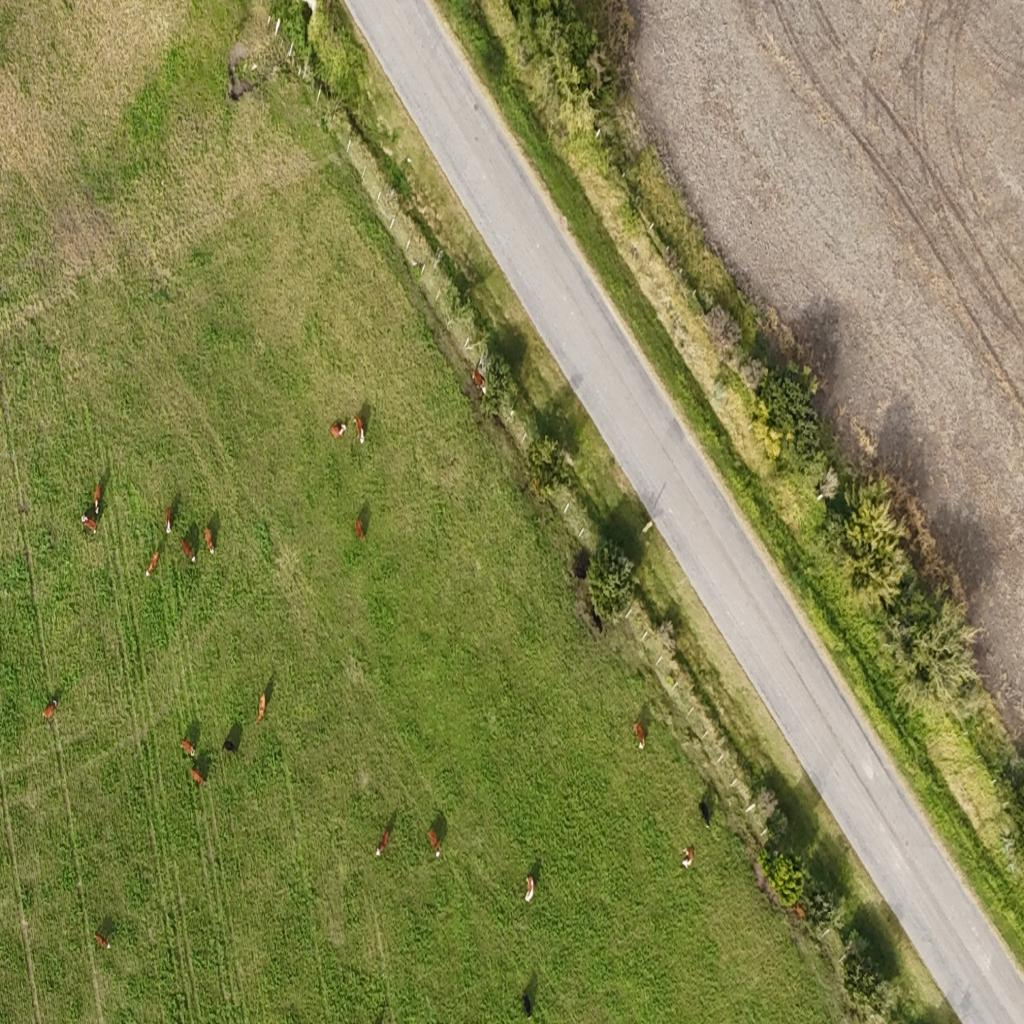cow: (427, 829, 442, 859), (145, 550, 160, 579), (80, 513, 98, 537), (375, 830, 390, 858), (472, 365, 486, 395), (181, 538, 196, 564), (203, 526, 215, 557), (180, 739, 196, 761), (330, 420, 347, 440), (633, 721, 645, 749), (354, 414, 365, 444), (43, 699, 57, 722), (256, 693, 266, 723), (682, 845, 694, 870), (94, 932, 110, 950), (190, 768, 206, 786), (524, 876, 534, 904), (94, 484, 102, 516), (522, 992, 532, 1017), (165, 505, 173, 536), (222, 739, 237, 754), (792, 904, 806, 920), (355, 518, 365, 540)
